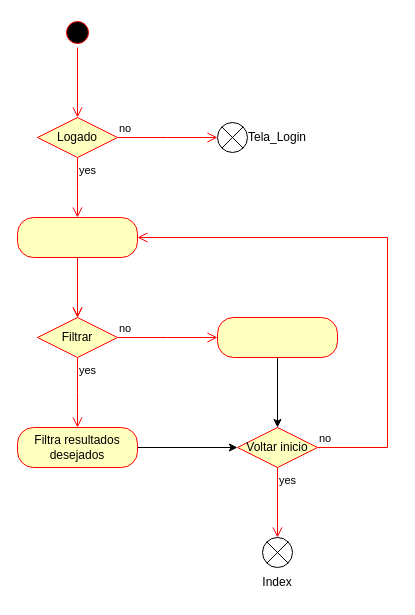
The diagram is 415 pixels wide and 615 high, and some of its shapes have lost their labels. Each missing label, with the box of its shape:
Lista todos: (216, 316, 338, 358)
Mostra animal: (16, 216, 138, 258)
